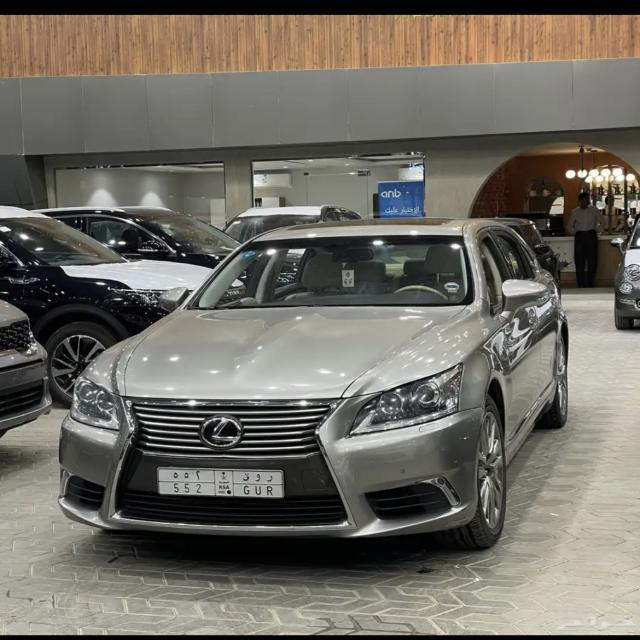license_plate: (156, 465, 286, 500)
